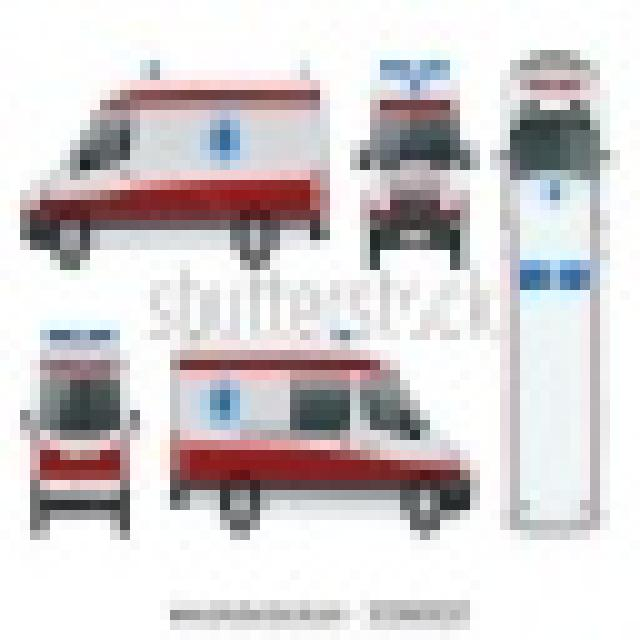Ambulance: (160, 330, 470, 530)
